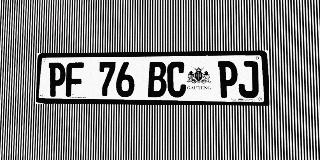6: (116, 62, 134, 97)
7: (97, 62, 116, 97)
B: (148, 62, 166, 97)
C: (167, 61, 186, 97)
F: (66, 62, 84, 97)
J: (238, 61, 259, 98)
P: (218, 61, 238, 98), (48, 62, 66, 97)
